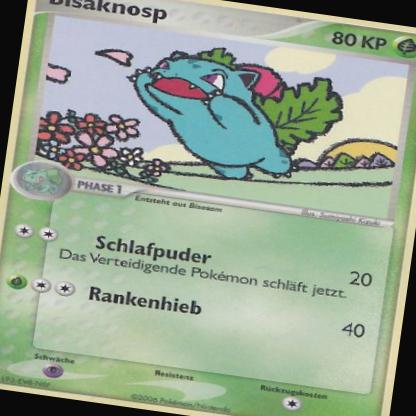Ivysaur: (117, 34, 355, 199)
